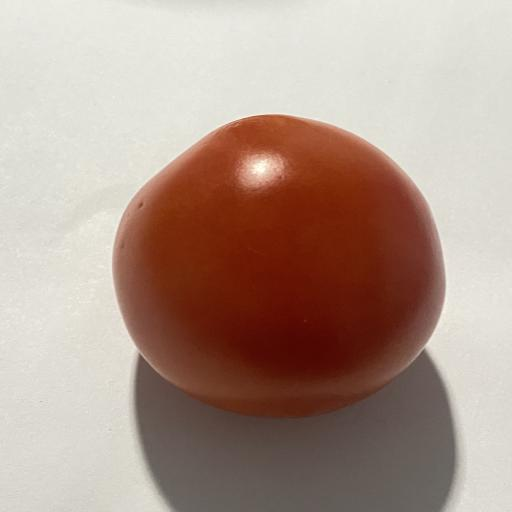ripe: (113, 115, 445, 417)
